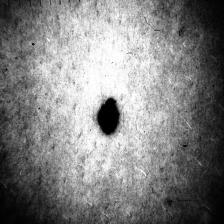Benign Marking or Mole: (97, 98, 118, 135)
